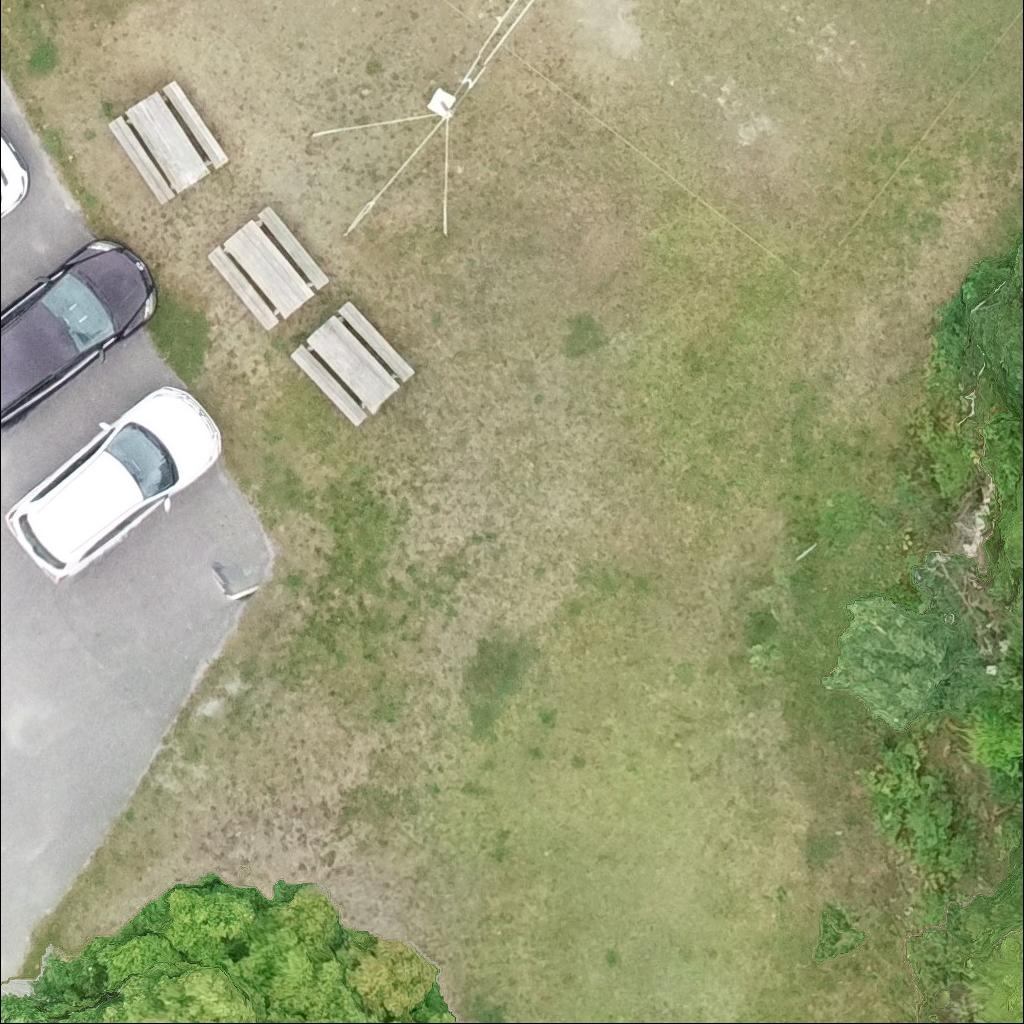crown: (0, 883, 454, 1023), (821, 597, 1000, 730), (964, 232, 1023, 410), (970, 910, 1023, 1023), (999, 469, 1023, 626)
